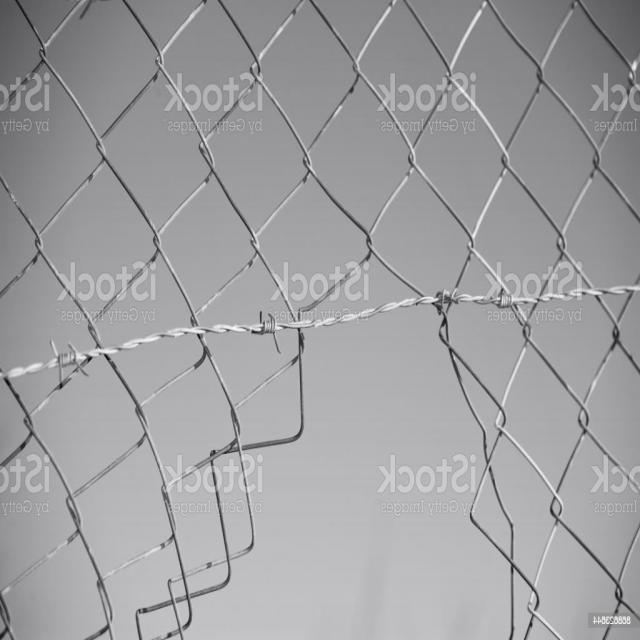fence line: (184, 301, 515, 631)
